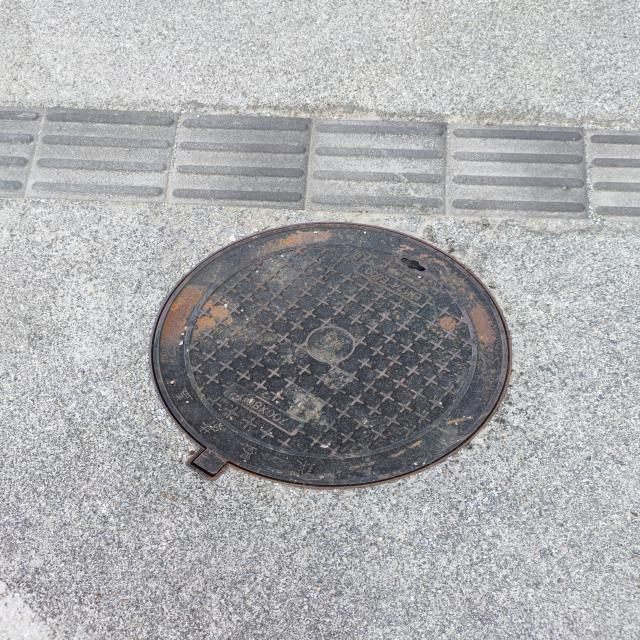Good: (145, 218, 516, 497)
